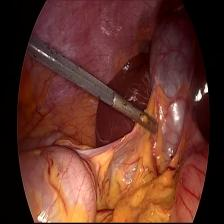Grasper: (111, 89, 164, 141)
